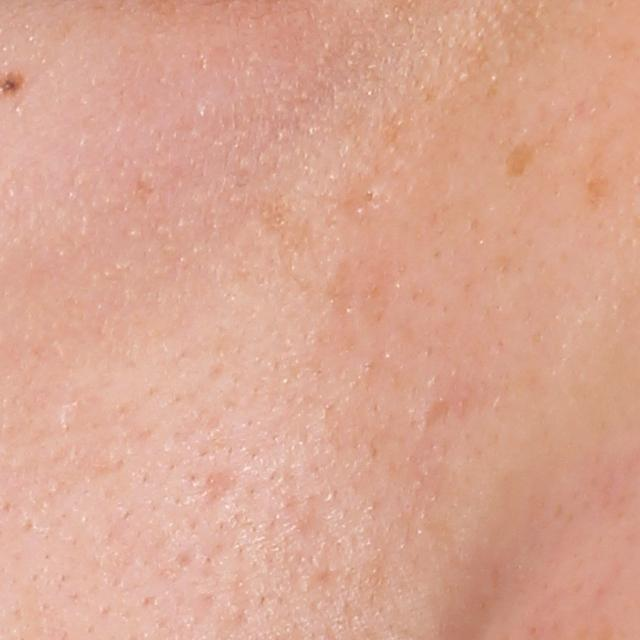atrophic_scar: (192, 461, 276, 538), (409, 392, 455, 433)
comedo: (359, 182, 383, 207)
melasma: (577, 151, 619, 215), (495, 138, 544, 191)
